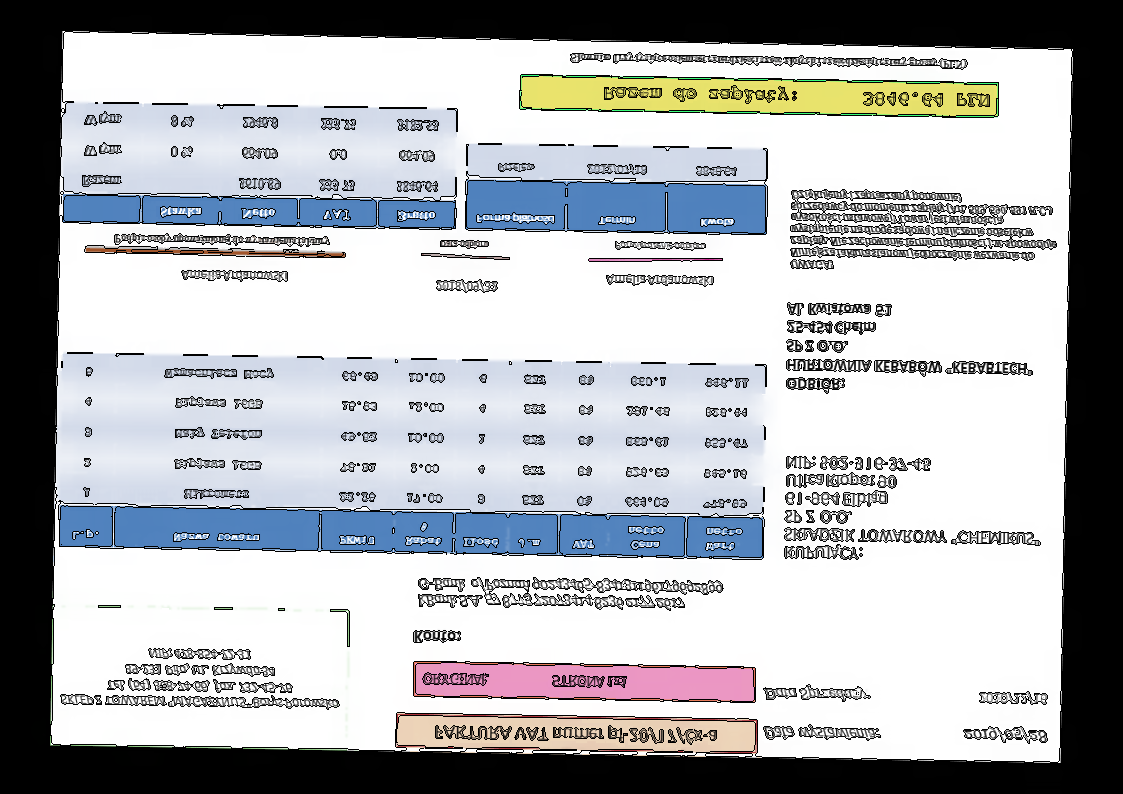Table: (56, 351, 768, 561), (61, 101, 457, 231), (464, 142, 768, 236)
TextBox: (781, 453, 1044, 567), (784, 300, 1037, 398), (787, 189, 1060, 276), (59, 645, 342, 713), (415, 574, 726, 614), (601, 83, 991, 109), (569, 51, 968, 72), (433, 722, 720, 747), (422, 670, 629, 691), (112, 232, 330, 250), (762, 722, 881, 746), (762, 684, 872, 704), (961, 724, 1049, 746), (180, 267, 289, 284), (604, 274, 714, 288), (612, 239, 708, 254), (977, 690, 1048, 707), (434, 278, 498, 294), (412, 628, 461, 646), (438, 238, 488, 251)
